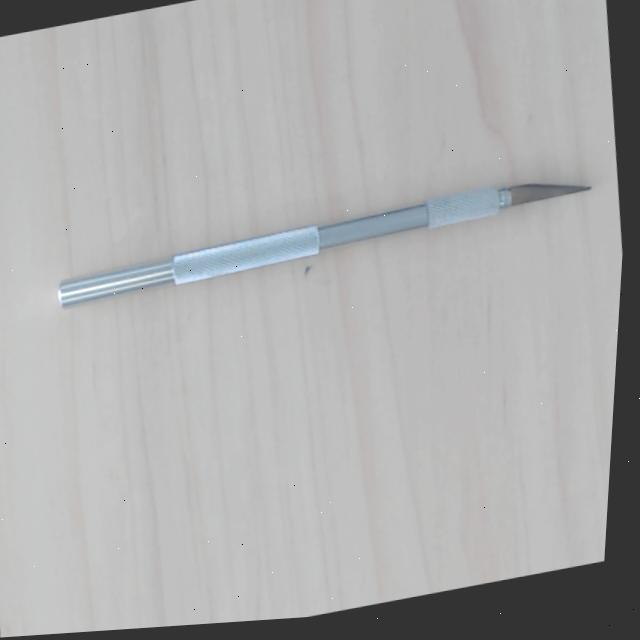Cutter-Kecil: (54, 164, 590, 311)
